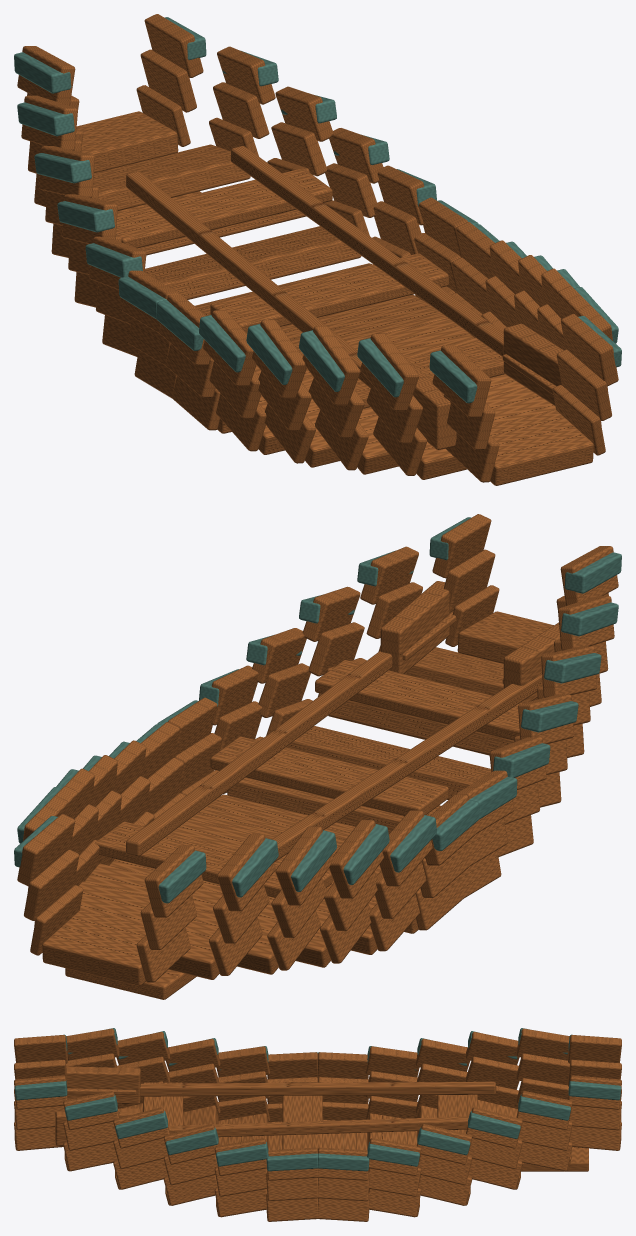
File: canal-rowing-boat.glb
3 views of the same model, one above another, from view 1: azimuth 30°, elevation 25°; view 2: azimuth 150°, elevation 25°; view 3: azimuth 270°, elevation 25° (orthographic). The views are drawn at different scales.
Visible parts, largest first — view 1: canal-rowing-boat; view 2: canal-rowing-boat; view 3: canal-rowing-boat.
Part boxes in pixels (x1,y1,x2,y2): canal-rowing-boat: (14,14,621,485); canal-rowing-boat: (14,514,621,999); canal-rowing-boat: (14,1028,621,1221).
Size of the model in its own units: 1.61 by 0.8761 by 3.92.
Materials: 2 (2 with a texture image).
